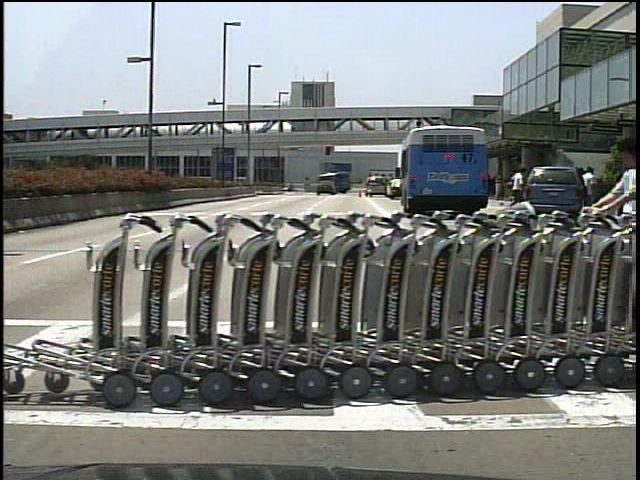person: (580, 165, 601, 214), (574, 164, 591, 221), (509, 163, 523, 212)
